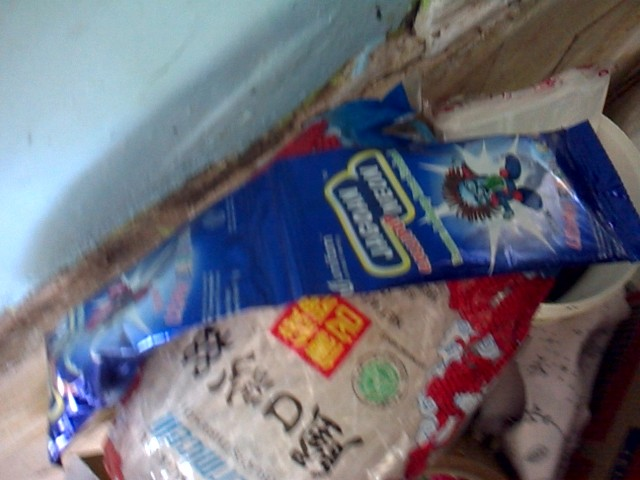jagoan neon: (257, 118, 640, 302)
